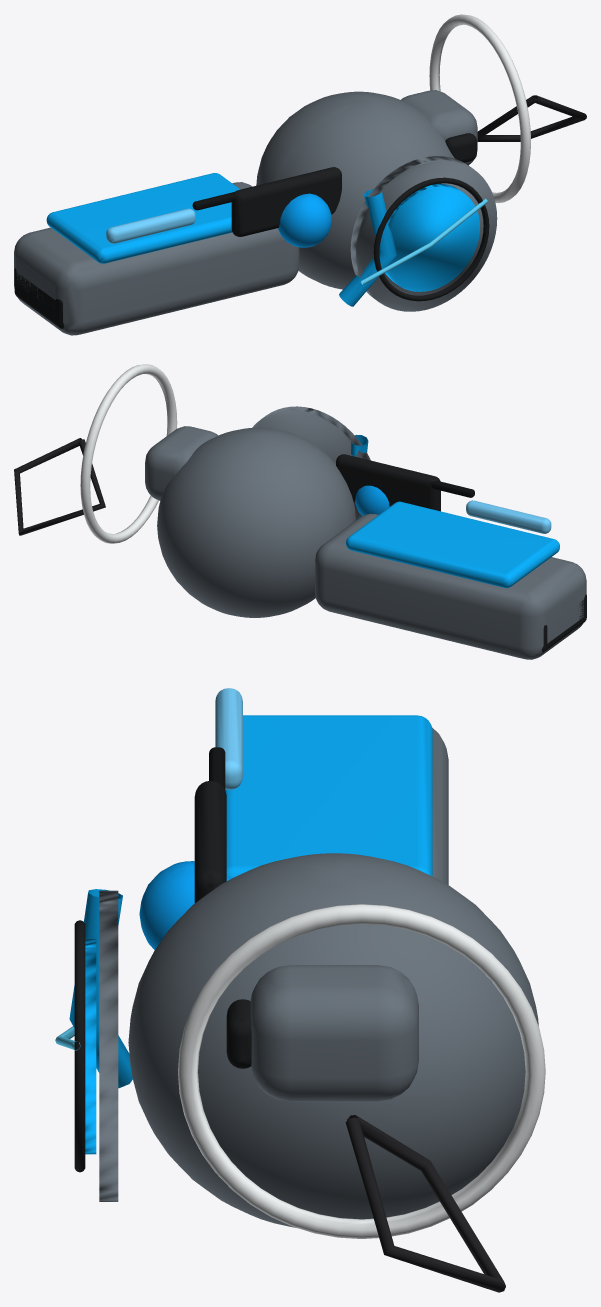
The model's file is Pfeife_3D_v2.glb.
3 views of the same model, one above another, from view 1: azimuth 30°, elevation 25°; view 2: azimuth 150°, elevation 25°; view 3: azimuth 270°, elevation 25° (orthographic). The views are drawn at different scales.
Visible parts, largest first — view 1: Pfeife_3D_v2__web_dark_graphite_whistle_plastic_shell, Pfeife_3D_v2__web_bright_blue_whistle_plastic_panels, Pfeife_3D_v2__web_black_hollow_whistle_openings, Pfeife_3D_v2__web_polished_steel_whistle_key_ring, Pfeife_3D_v2__web_small_blue_pea_ball_inside_whistle, Pfeife_3D_v2__web_v2_extra_black_braided_whistle_lanyard, Pfeife_3D_v2__web_raised_blue_whistle_label_plate, Pfeife_3D_v2__web_v2_extra_blue_whistle_glossy_rim_highlight; view 2: Pfeife_3D_v2__web_dark_graphite_whistle_plastic_shell, Pfeife_3D_v2__web_bright_blue_whistle_plastic_panels, Pfeife_3D_v2__web_black_hollow_whistle_openings, Pfeife_3D_v2__web_polished_steel_whistle_key_ring, Pfeife_3D_v2__web_v2_extra_black_braided_whistle_lanyard, Pfeife_3D_v2__web_raised_blue_whistle_label_plate, Pfeife_3D_v2__web_small_blue_pea_ball_inside_whistle, Pfeife_3D_v2__web_v2_extra_black_whistle_tone_slot_shadows; view 3: Pfeife_3D_v2__web_dark_graphite_whistle_plastic_shell, Pfeife_3D_v2__web_bright_blue_whistle_plastic_panels, Pfeife_3D_v2__web_polished_steel_whistle_key_ring, Pfeife_3D_v2__web_black_hollow_whistle_openings, Pfeife_3D_v2__web_v2_extra_black_braided_whistle_lanyard, Pfeife_3D_v2__web_small_blue_pea_ball_inside_whistle, Pfeife_3D_v2__web_raised_blue_whistle_label_plate.
Part boxes in pixels (bbox=[...]): Pfeife_3D_v2__web_dark_graphite_whistle_plastic_shell: bbox=[14, 90, 497, 335]; Pfeife_3D_v2__web_bright_blue_whistle_plastic_panels: bbox=[46, 173, 479, 306]; Pfeife_3D_v2__web_black_hollow_whistle_openings: bbox=[14, 133, 489, 328]; Pfeife_3D_v2__web_polished_steel_whistle_key_ring: bbox=[429, 14, 530, 203]; Pfeife_3D_v2__web_small_blue_pea_ball_inside_whistle: bbox=[278, 193, 331, 247]; Pfeife_3D_v2__web_v2_extra_black_braided_whistle_lanyard: bbox=[477, 95, 586, 141]; Pfeife_3D_v2__web_raised_blue_whistle_label_plate: bbox=[106, 208, 195, 243]; Pfeife_3D_v2__web_v2_extra_blue_whistle_glossy_rim_highlight: bbox=[360, 198, 487, 284]; Pfeife_3D_v2__web_dark_graphite_whistle_plastic_shell: bbox=[145, 406, 586, 659]; Pfeife_3D_v2__web_bright_blue_whistle_plastic_panels: bbox=[346, 434, 559, 588]; Pfeife_3D_v2__web_black_hollow_whistle_openings: bbox=[336, 454, 586, 652]; Pfeife_3D_v2__web_polished_steel_whistle_key_ring: bbox=[80, 364, 177, 543]; Pfeife_3D_v2__web_v2_extra_black_braided_whistle_lanyard: bbox=[14, 438, 105, 535]; Pfeife_3D_v2__web_raised_blue_whistle_label_plate: bbox=[466, 500, 551, 533]; Pfeife_3D_v2__web_small_blue_pea_ball_inside_whistle: bbox=[355, 485, 389, 515]; Pfeife_3D_v2__web_v2_extra_black_whistle_tone_slot_shadows: bbox=[429, 480, 474, 497]; Pfeife_3D_v2__web_dark_graphite_whistle_plastic_shell: bbox=[99, 727, 538, 1227]; Pfeife_3D_v2__web_bright_blue_whistle_plastic_panels: bbox=[69, 715, 432, 1154]; Pfeife_3D_v2__web_polished_steel_whistle_key_ring: bbox=[178, 904, 545, 1238]; Pfeife_3D_v2__web_black_hollow_whistle_openings: bbox=[74, 780, 251, 1172]; Pfeife_3D_v2__web_v2_extra_black_braided_whistle_lanyard: bbox=[345, 1115, 505, 1292]; Pfeife_3D_v2__web_small_blue_pea_ball_inside_whistle: bbox=[139, 861, 230, 949]; Pfeife_3D_v2__web_raised_blue_whistle_label_plate: bbox=[215, 688, 242, 789].
Bounding box in the file's own units: 1.36 × 0.513 × 0.536.
